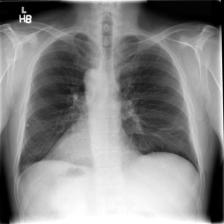normal: (15, 23, 202, 177)
